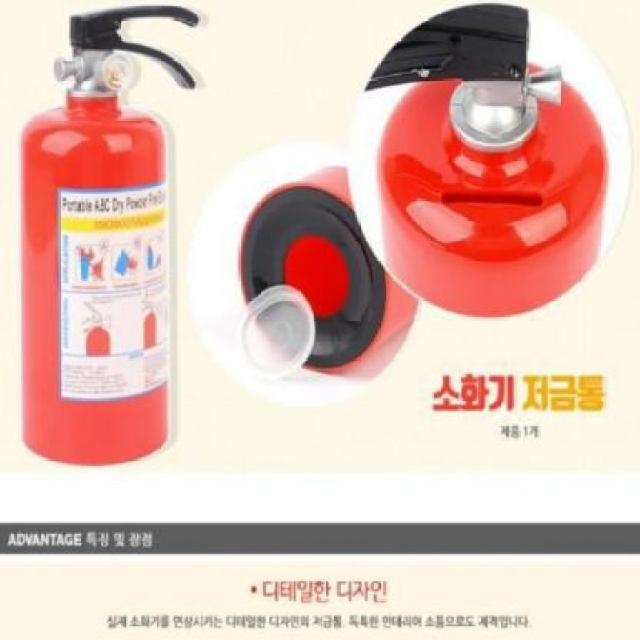fire extinguisher: (19, 4, 199, 467)
